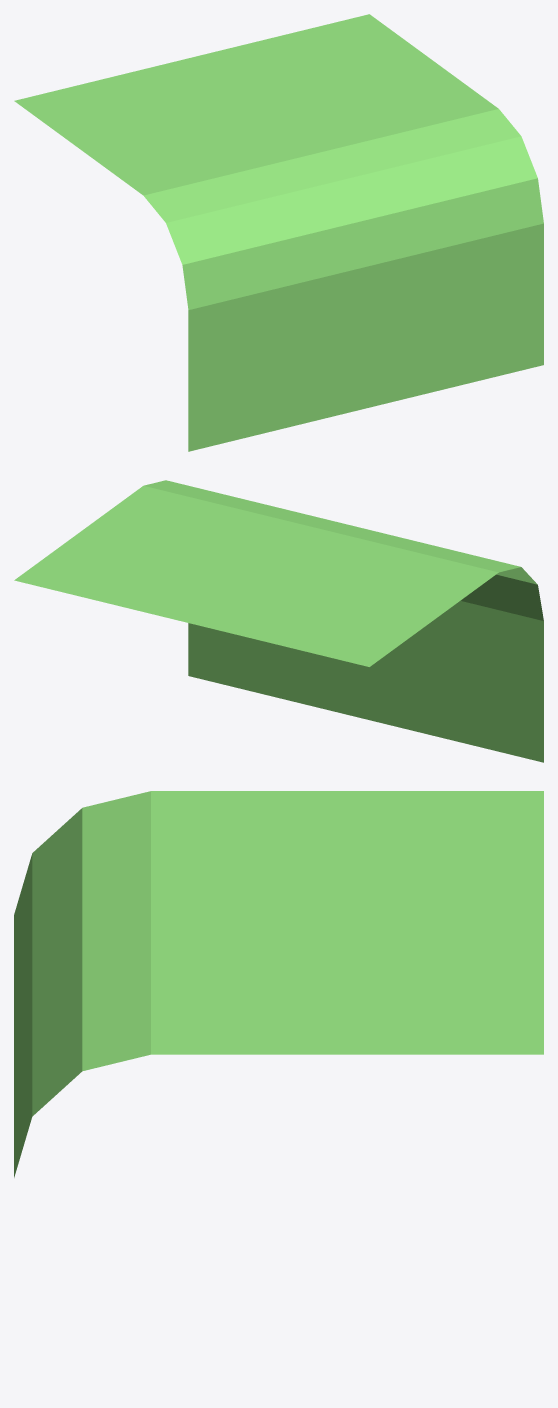
The model's file is flowingfluid.fbx.
3 views of the same model, one above another, from view 1: azimuth 30°, elevation 25°; view 2: azimuth 150°, elevation 25°; view 3: azimuth 270°, elevation 25° (orthographic). The views are drawn at different scales.
Parts seen in each view (by area): view 1: flowingfluid; view 2: flowingfluid; view 3: flowingfluid.
Boxes of the visible parts, <box> form: flowingfluid: <box>14,14,543,451</box>; flowingfluid: <box>14,480,543,762</box>; flowingfluid: <box>14,791,543,1177</box>.
Size of the model in its own units: 1 by 0.6 by 0.8497.
